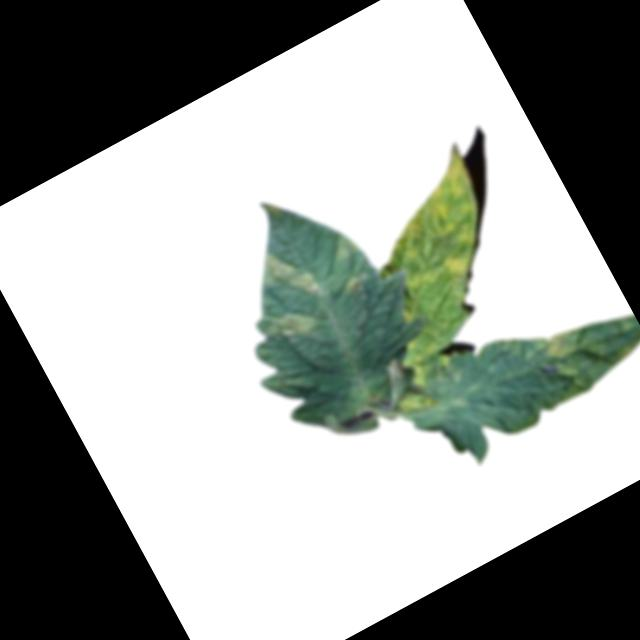Leaf_Mold: (342, 142, 518, 320), (252, 234, 330, 318), (254, 294, 321, 352), (538, 319, 591, 365), (330, 231, 359, 261), (340, 273, 370, 301)
